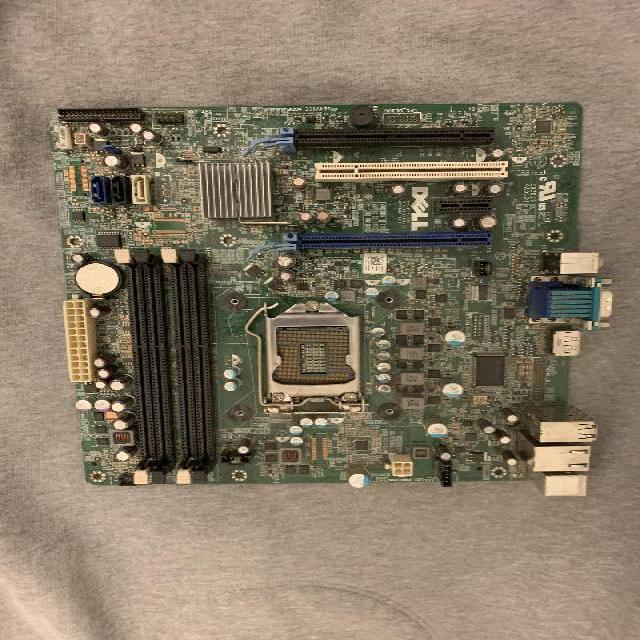Mainboard: (48, 100, 612, 498)
